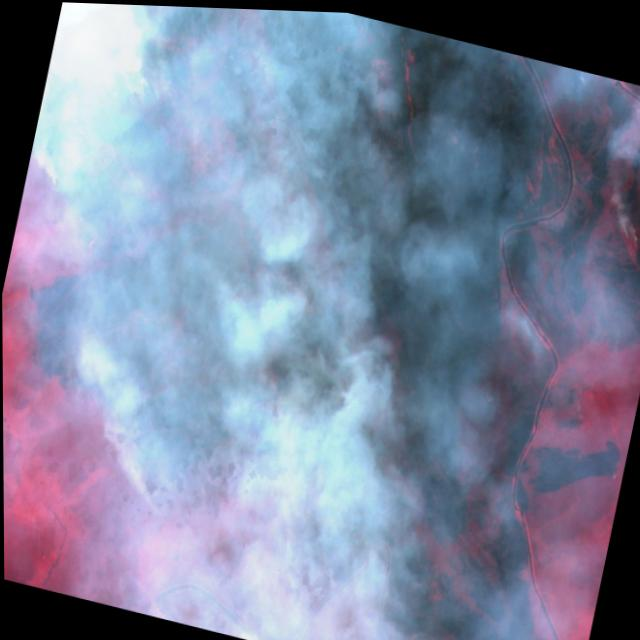fire: (7, 319, 381, 580), (1, 0, 274, 332)
